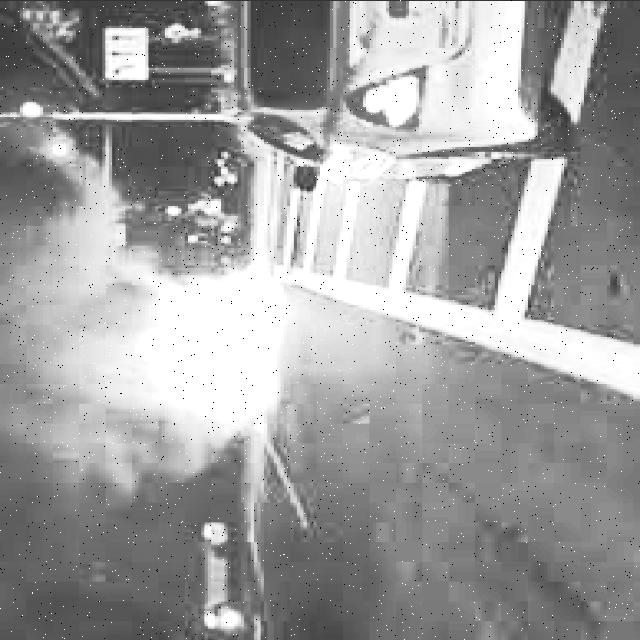api: (130, 256, 292, 436)
